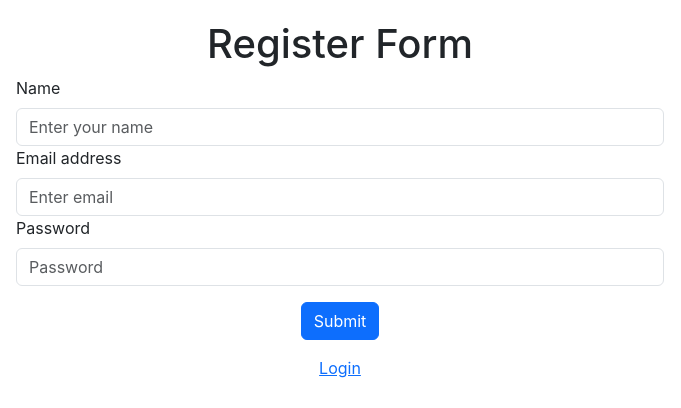
Test case: Register component › displays validation error if password is missing
The width and height of the screenshot is (681, 408).
Click the button "Submit" at (340, 321), box x1=301 y1=302 x2=379 y2=340
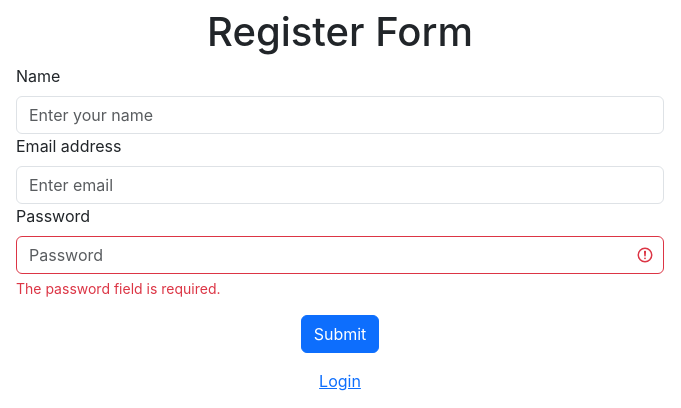
Result: the text "The password field is required." is shown at x1=16 y1=280 x2=220 y2=296
